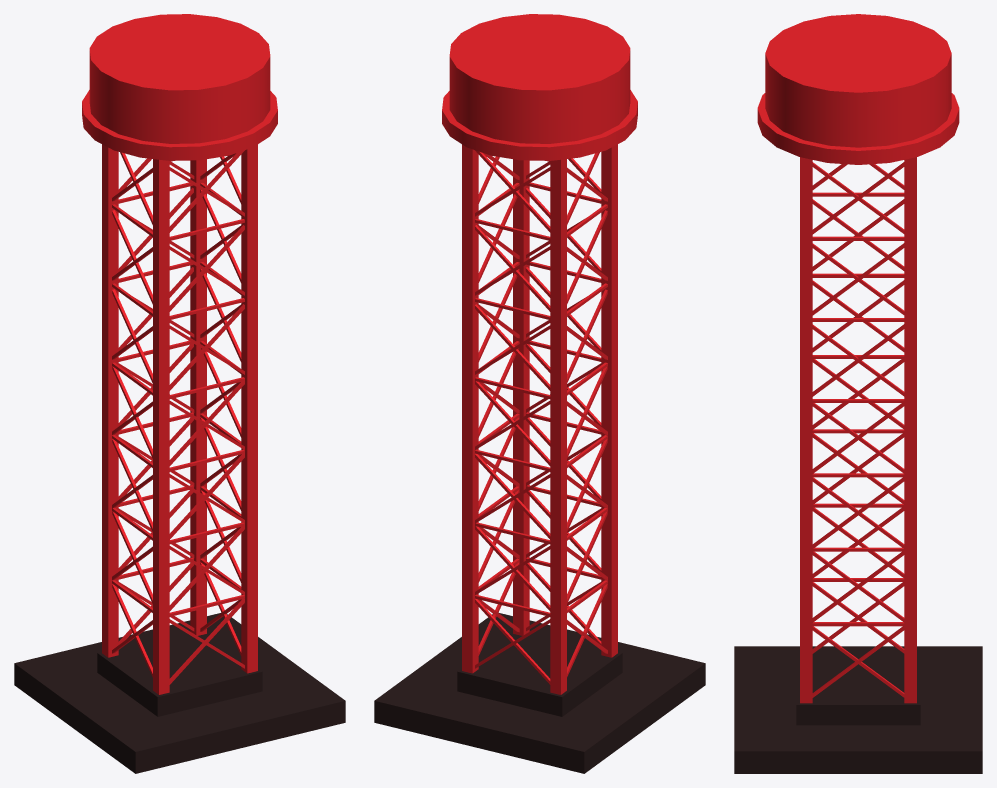
Rendered from crane_base.fbx.
The picture shows the model from 3 angles, left to right: view 1: azimuth 30°, elevation 25°; view 2: azimuth 150°, elevation 25°; view 3: azimuth 270°, elevation 25°; orthographic projection. The views are drawn at different scales.
Visible parts, largest first — view 1: oldboy_crane_base; view 2: oldboy_crane_base; view 3: oldboy_crane_base.
Boxes of the visible parts, x1,y1,x2,y2 form: oldboy_crane_base: [14, 14, 345, 773]; oldboy_crane_base: [374, 14, 705, 773]; oldboy_crane_base: [734, 14, 982, 773].
Bounding box in the file's own units: 2 × 5.93 × 2.
1 material, 1 textured.
